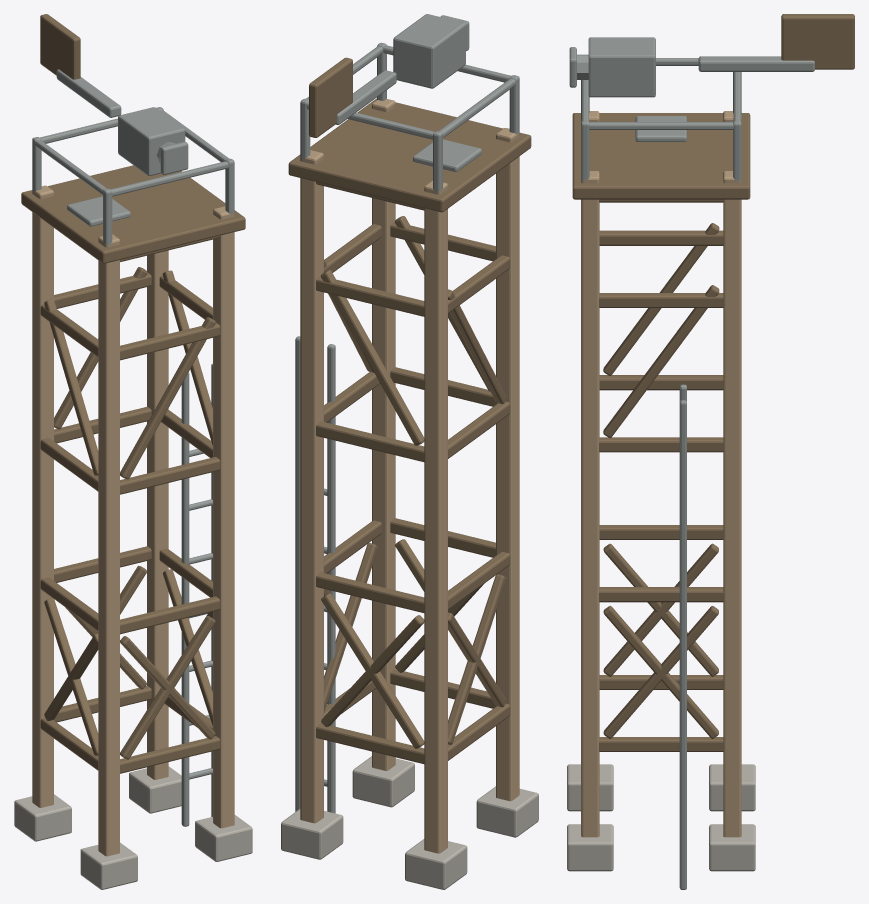
Rendered from rv_windmill_tower.gltf.
3 renders of one model, left to right at view 1: azimuth 30°, elevation 25°; view 2: azimuth 150°, elevation 25°; view 3: azimuth 270°, elevation 25°, orthographic. The views are drawn at different scales.
Parts seen in each view (by area): view 1: RV_WindmillTower; view 2: RV_WindmillTower; view 3: RV_WindmillTower.
Boxes of the visible parts, x1=… form: RV_WindmillTower: x1=14, y1=14, x2=252, y2=889; RV_WindmillTower: x1=281, y1=14, x2=538, y2=889; RV_WindmillTower: x1=567, y1=14, x2=854, y2=889.
Size of the model in its own units: 1.73 by 7.44 by 2.35.
